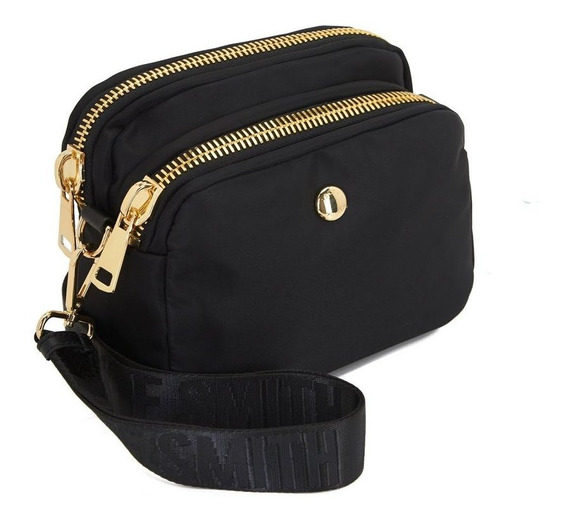cartera: (36, 23, 476, 384)
